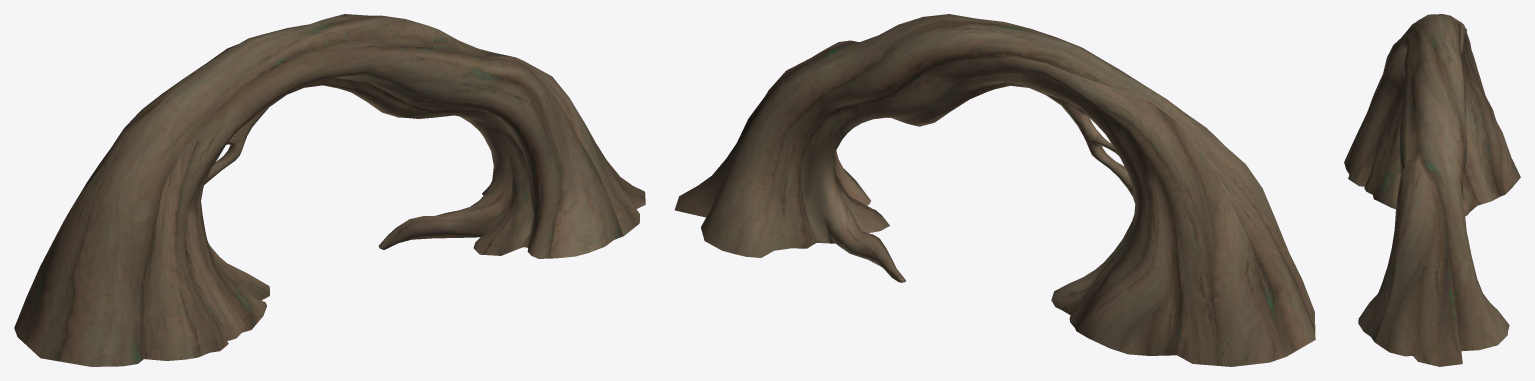
The model's file is Area_Xm_Stone_YTBL_Full_NeiGen_M_02.fbx.
3 renders of one model, left to right at view 1: azimuth 30°, elevation 25°; view 2: azimuth 150°, elevation 25°; view 3: azimuth 270°, elevation 25°, orthographic. The views are drawn at different scales.
Visible parts, largest first — view 1: Area_Xm_Stone_YTBL_Full_NeiGen_M_02_StoneTint_Lod0; view 2: Area_Xm_Stone_YTBL_Full_NeiGen_M_02_StoneTint_Lod0; view 3: Area_Xm_Stone_YTBL_Full_NeiGen_M_02_StoneTint_Lod0.
Boxes of the visible parts, x1,y1,x2,y2 form: Area_Xm_Stone_YTBL_Full_NeiGen_M_02_StoneTint_Lod0: [14, 14, 645, 366]; Area_Xm_Stone_YTBL_Full_NeiGen_M_02_StoneTint_Lod0: [674, 14, 1315, 366]; Area_Xm_Stone_YTBL_Full_NeiGen_M_02_StoneTint_Lod0: [1344, 14, 1520, 366].
Bounding box in the file's own units: 56.17 × 22.59 × 17.37.
1 material, 1 textured.
